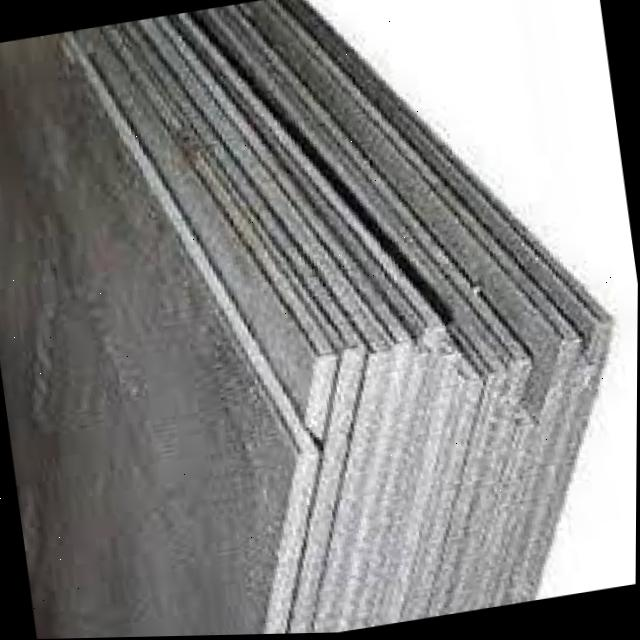Dry: (0, 0, 615, 638)
